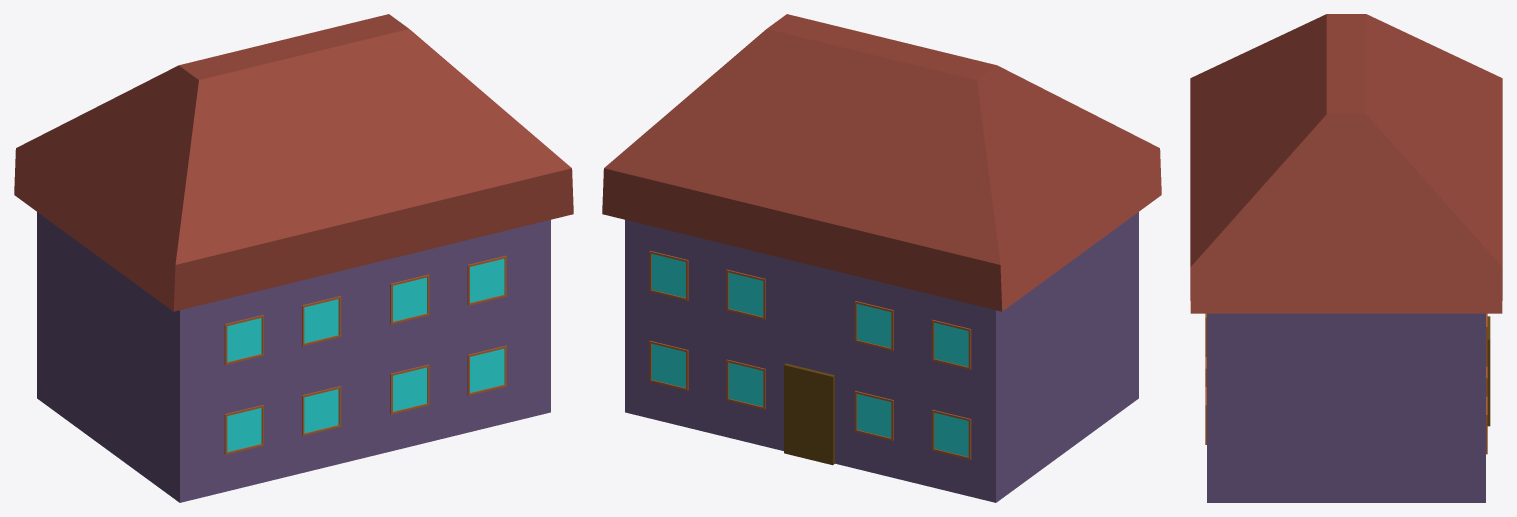
File: house4.fbx
3 renders of one model, left to right at view 1: azimuth 30°, elevation 25°; view 2: azimuth 150°, elevation 25°; view 3: azimuth 270°, elevation 25°, orthographic. The views are drawn at different scales.
Parts seen in each view (by area): view 1: House 4; view 2: House 4; view 3: House 4.
Part boxes in pixels (x1,y1,x2,y2): House 4: [14, 14, 573, 502]; House 4: [602, 14, 1161, 502]; House 4: [1190, 14, 1502, 502].
Size of the model in its own units: 323 by 277 by 223.
